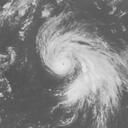cyclone: (37, 13, 118, 103)
